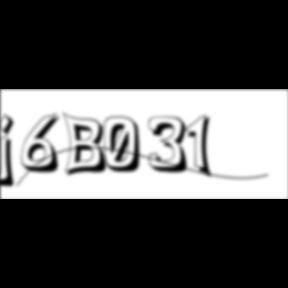0: (104, 115, 148, 174)
1: (182, 114, 217, 182)
3: (149, 116, 195, 176)
6: (22, 112, 66, 176)
B: (63, 111, 113, 179)
j: (0, 113, 22, 191)
